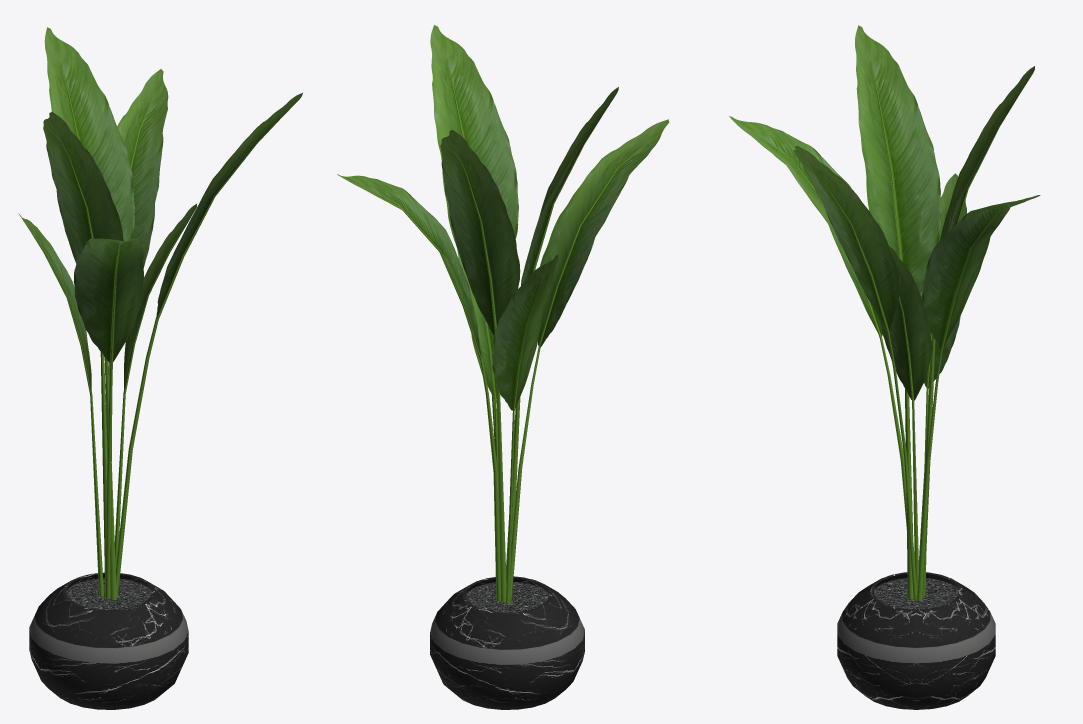
Rendered from plant1.FBX.
3 renders of one model, left to right at view 1: azimuth 30°, elevation 25°; view 2: azimuth 150°, elevation 25°; view 3: azimuth 270°, elevation 25°, orthographic. The views are drawn at different scales.
Visible parts, largest first — view 1: plant1; view 2: plant1; view 3: plant1.
Part boxes in pixels (x1,y1,x2,y2): plant1: [18, 27, 302, 709]; plant1: [337, 25, 669, 709]; plant1: [729, 25, 1040, 709].
Bounding box in the file's own units: 28.26 × 32.8 × 65.26.
